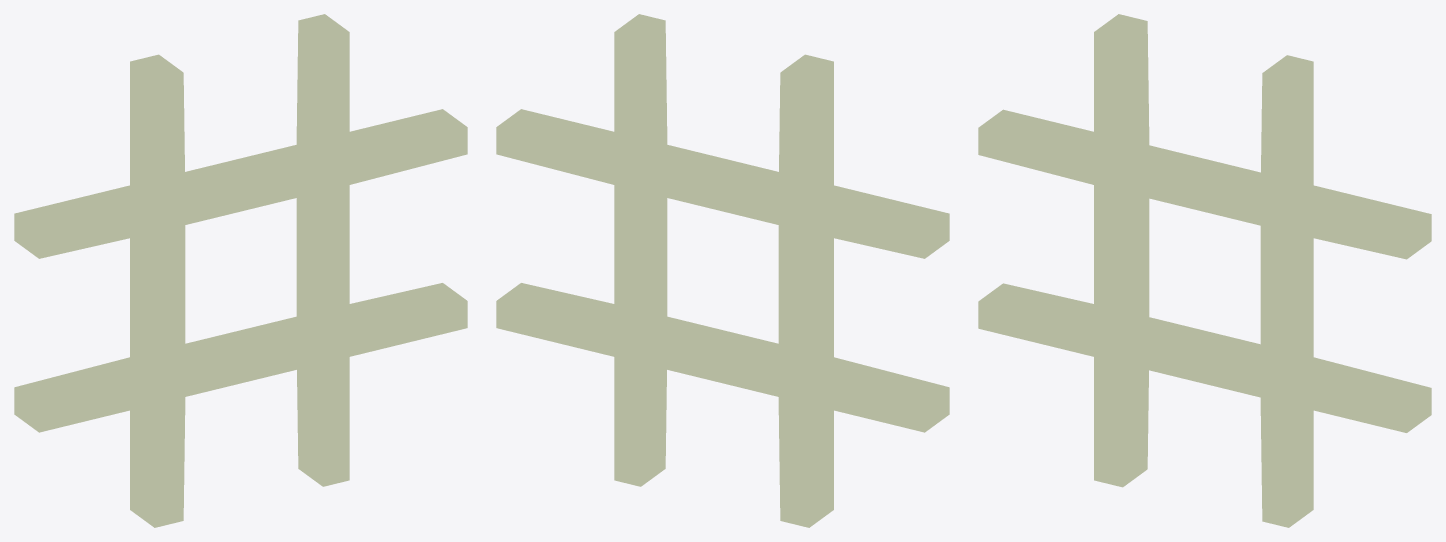
The model's file is pound.dae.
3 views of the same model, side by side, from view 1: azimuth 30°, elevation 25°; view 2: azimuth 150°, elevation 25°; view 3: azimuth 330°, elevation 25° (orthographic).
Visible parts, largest first — view 1: Cube1-0; view 2: Cube1-0; view 3: Cube1-0.
Part boxes in pixels (x1,y1,x2,y2): Cube1-0: [14, 14, 467, 527]; Cube1-0: [496, 14, 949, 527]; Cube1-0: [978, 14, 1431, 527].
Size of the model in its own units: 4 by 4 by 0.4.
